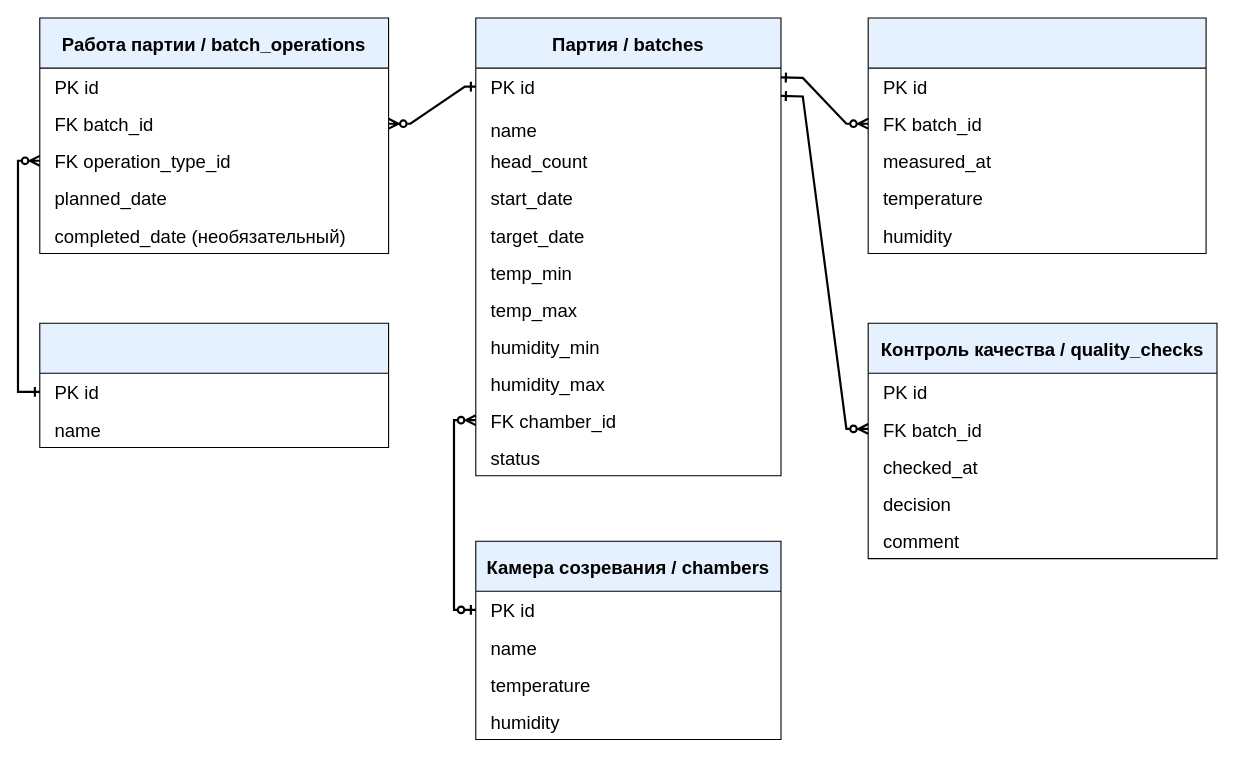
Image size: 1235x758. Some labels were removed from this diagram. Each missing label, with the box of its shape:
Вид операции / operation_types: (39, 322, 389, 447)
Измерение / measurements: (867, 17, 1206, 253)
